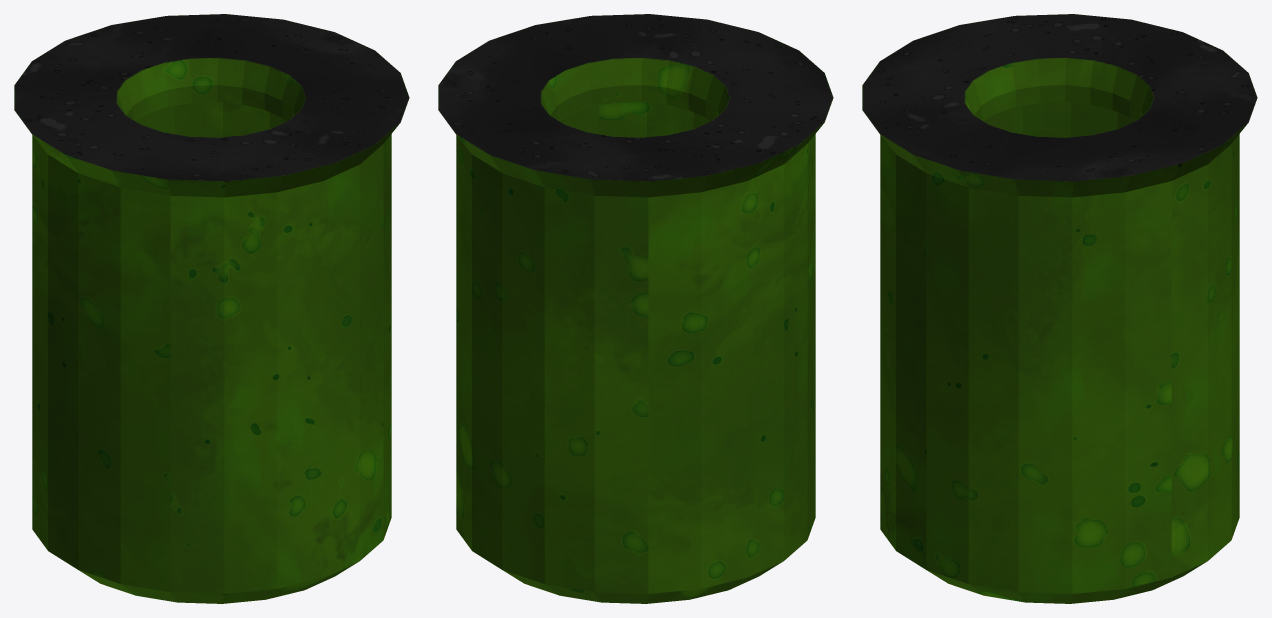
The model's file is trashbin_textured.fbx.
3 renders of one model, left to right at view 1: azimuth 30°, elevation 25°; view 2: azimuth 150°, elevation 25°; view 3: azimuth 270°, elevation 25°, orthographic.
Visible parts, largest first — view 1: Circle; view 2: Circle; view 3: Circle.
Part boxes in pixels (box(x1,y1,x2,y2)): Circle: box(14, 14, 409, 603); Circle: box(438, 14, 833, 603); Circle: box(862, 14, 1257, 603).
Bounding box in the file's own units: 211 × 260 × 210.
